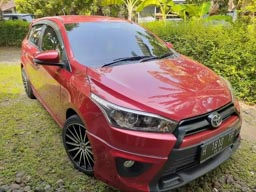plat: (201, 132, 235, 159)
